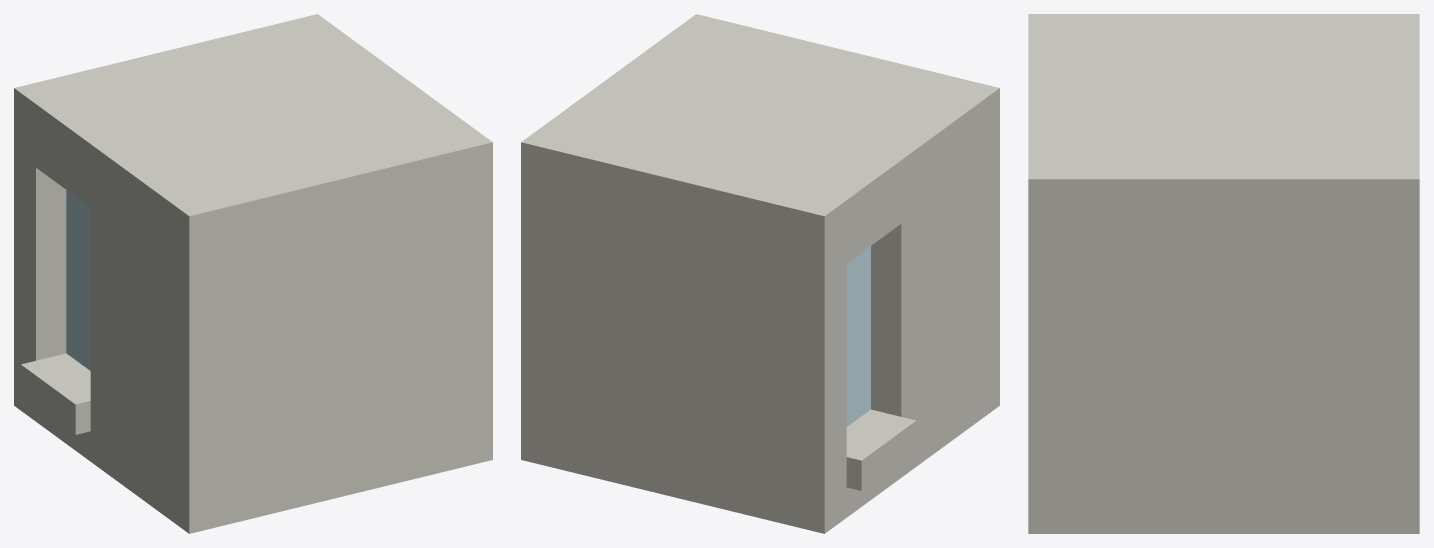
The model's file is Building Story 35.fbx.
The picture shows the model from 3 angles, left to right: view 1: azimuth 30°, elevation 25°; view 2: azimuth 150°, elevation 25°; view 3: azimuth 270°, elevation 25°; orthographic projection. The views are drawn at different scales.
Visible parts, largest first — view 1: Building Story 35; view 2: Building Story 35; view 3: Building Story 35.
Boxes of the visible parts, x1,y1,x2,y2 form: Building Story 35: [14, 14, 492, 533]; Building Story 35: [521, 14, 999, 533]; Building Story 35: [1028, 14, 1419, 533].
Bounding box in the file's own units: 1.05 × 1 × 1.
